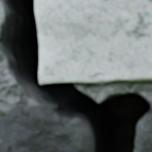brick: (35, 0, 151, 83)
broken_brick: (0, 105, 93, 151), (134, 108, 151, 151)
crack: (0, 0, 150, 151)
